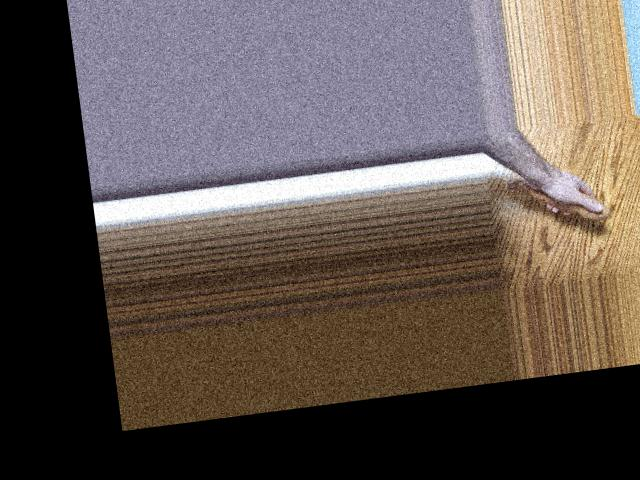sweet_potato: (499, 163, 612, 235)
